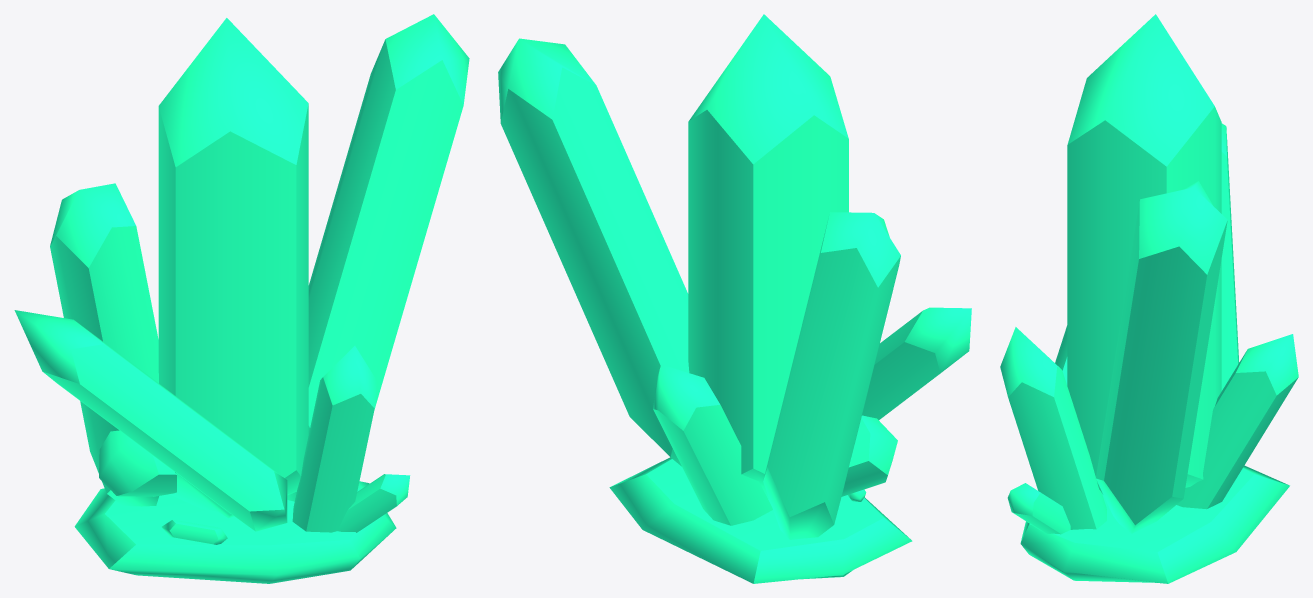
File: essenceCorrect.FBX
The picture shows the model from 3 angles, left to right: view 1: azimuth 30°, elevation 25°; view 2: azimuth 150°, elevation 25°; view 3: azimuth 270°, elevation 25°; orthographic projection.
Visible parts, largest first — view 1: Escencia; view 2: Escencia; view 3: Escencia.
Part boxes in pixels (x1,y1,x2,y2): Escencia: (14,14,469,583); Escencia: (498,14,971,583); Escencia: (1000,14,1298,583).
Bounding box in the file's own units: 99.02 × 108 × 55.94.
